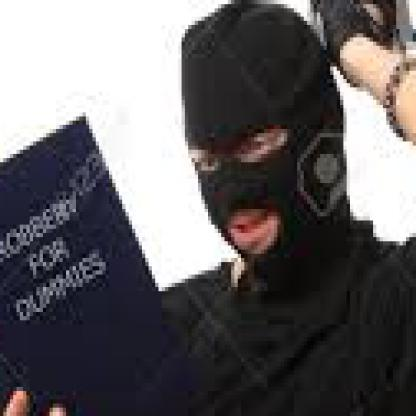gun: (304, 0, 413, 100)
